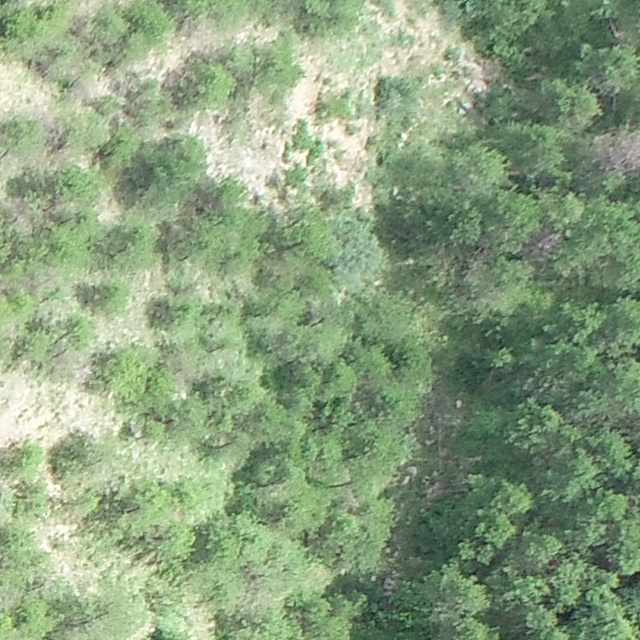unhealthy: (592, 128, 640, 173), (519, 227, 565, 260)
